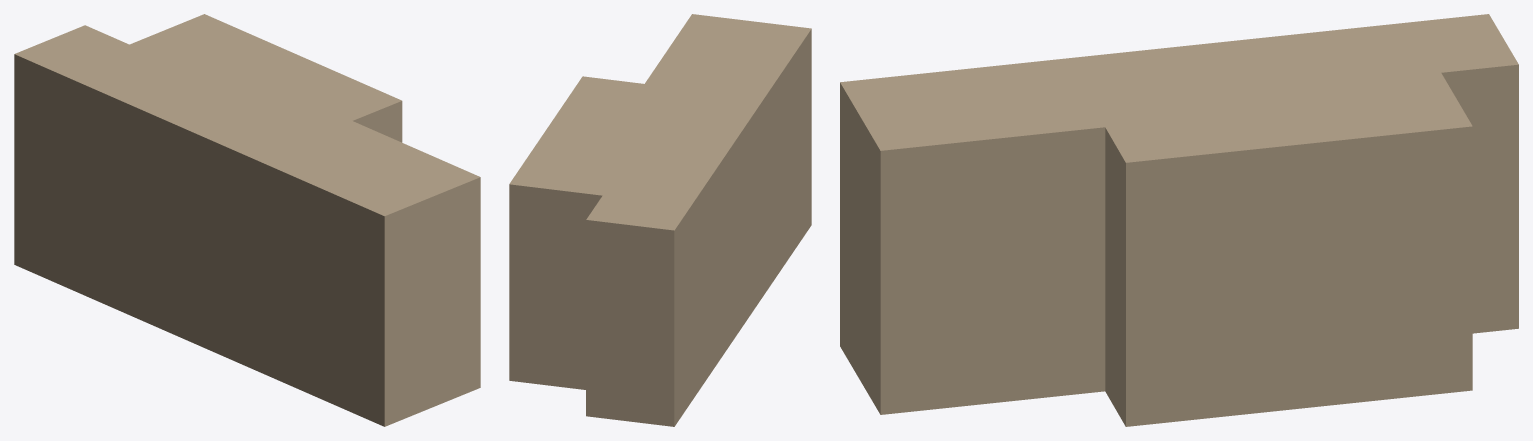
The model's file is bld_106456099.dae.
3 renders of one model, left to right at view 1: azimuth 30°, elevation 25°; view 2: azimuth 150°, elevation 25°; view 3: azimuth 270°, elevation 25°, orthographic. The views are drawn at different scales.
Visible parts, largest first — view 1: bld_106456099; view 2: bld_106456099; view 3: bld_106456099.
Boxes of the visible parts, box(x1,y1,x2,y2) form: bld_106456099: box(14, 14, 480, 426); bld_106456099: box(509, 14, 811, 426); bld_106456099: box(840, 14, 1518, 426).
Bounding box in the file's own units: 9.67 × 18.64 × 8.
